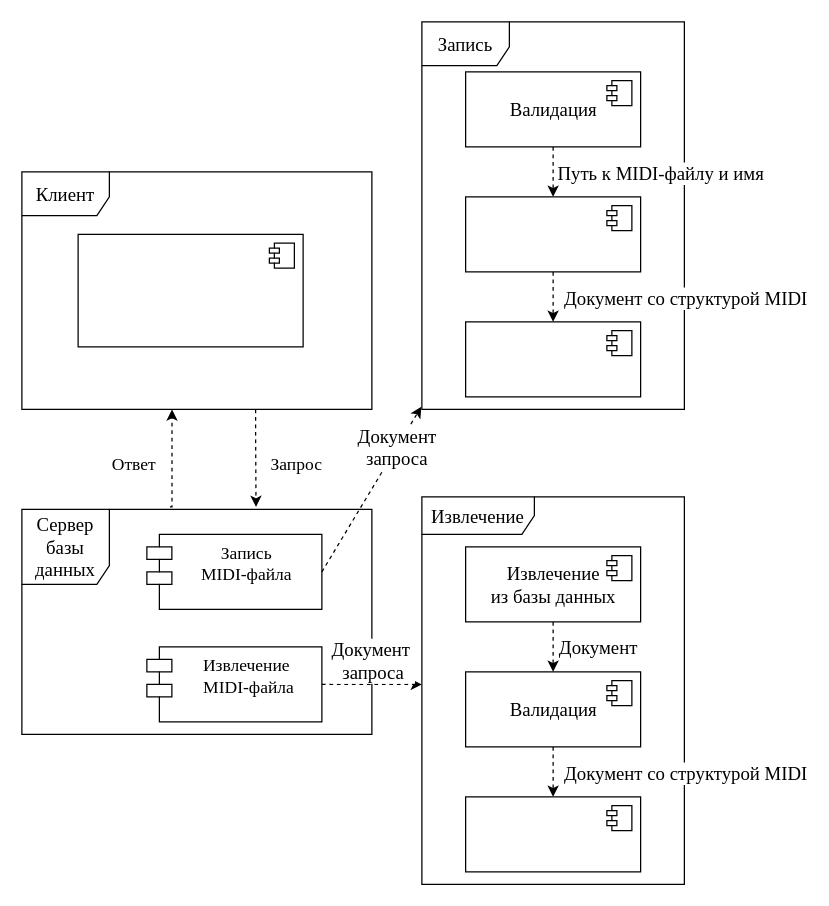
Image size: 829x906. Some labels were removed from this diagram. The centre of each missing label's shape, as x and y in pixels:
"Драйвер MongoDB" belongs at pixel 190 290.
"Запись в MIDI-файл" belongs at pixel 552 834.
"Запись в базу данных" belongs at pixel 552 359.
"Создание документа" belongs at pixel 552 234.
